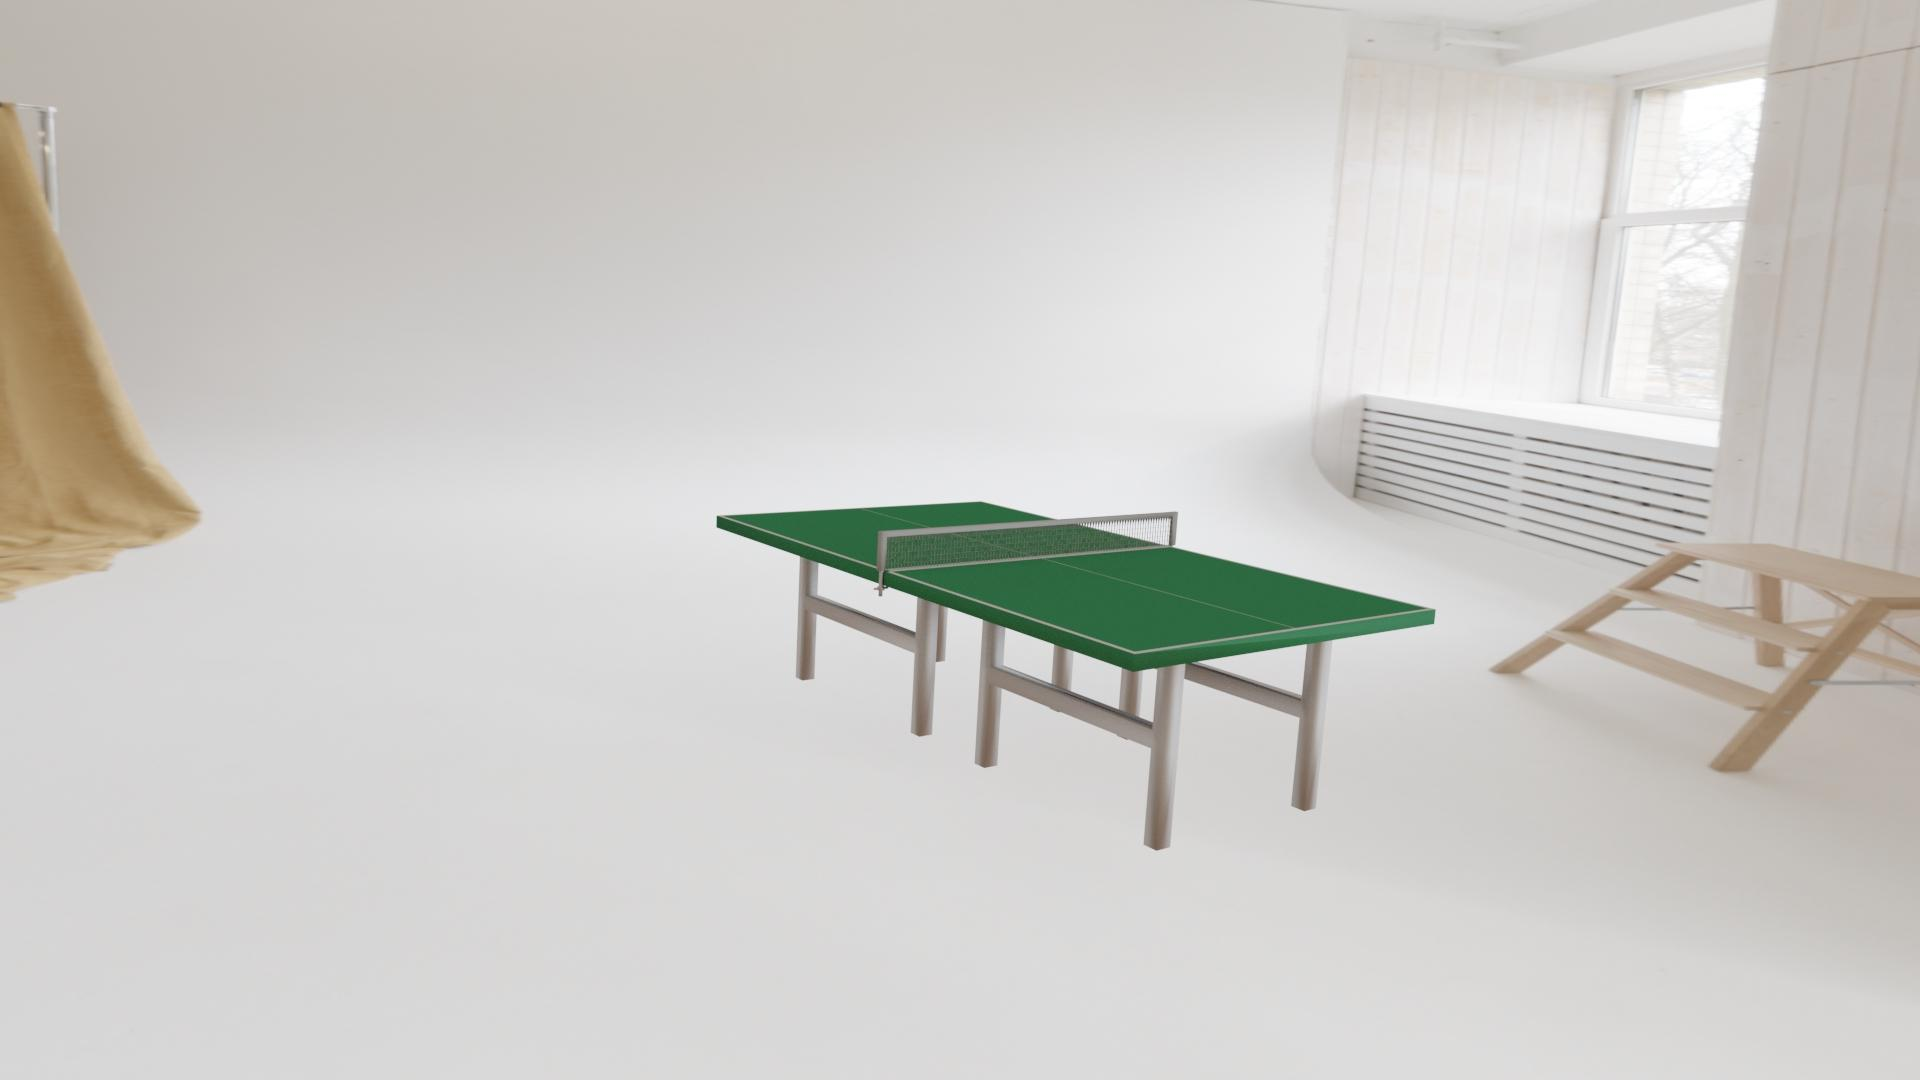table: (723, 501, 1428, 651)
